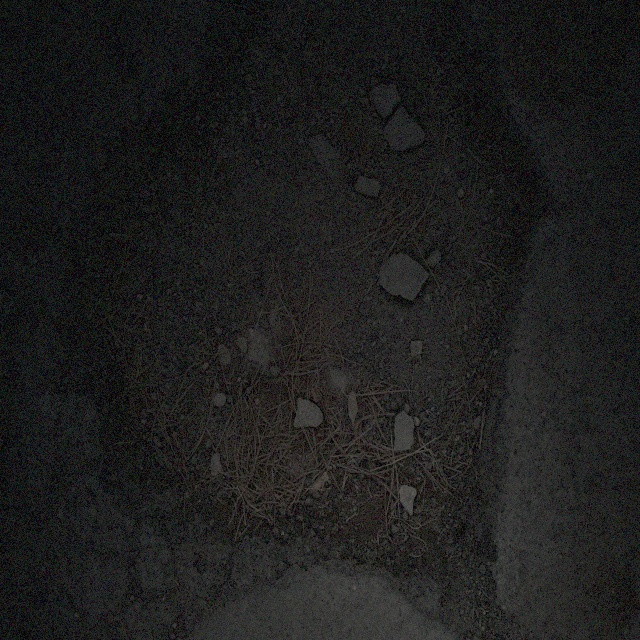pothole: (70, 15, 548, 606)
